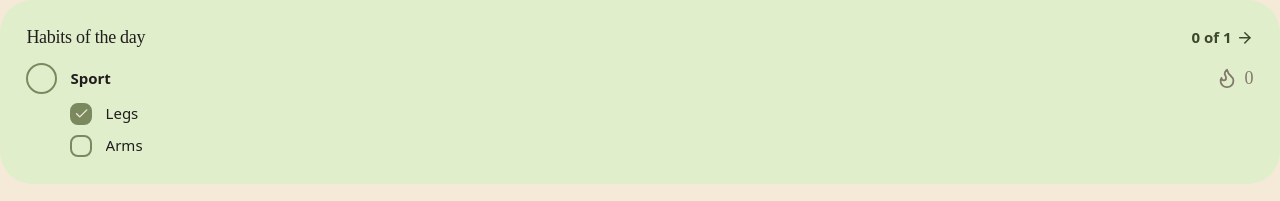
Test: the parts of a habit › ticks one part, sends it, and completes the habit’s day with the last one
Step 1. Click the checkbox named "Sport: Arms" → point(81, 146), box top-left (70, 135), bottom-right (92, 157)
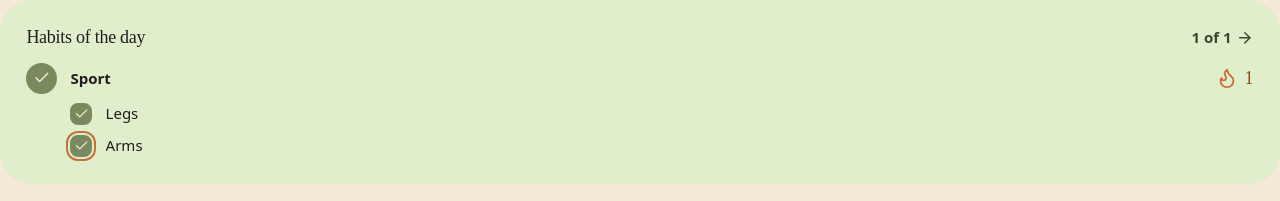
Now the checkbox named "Sport" is checked, box top-left (26, 63), bottom-right (57, 94)
Now the link "1 of 1" is shown, box top-left (1192, 26), bottom-right (1254, 50)
